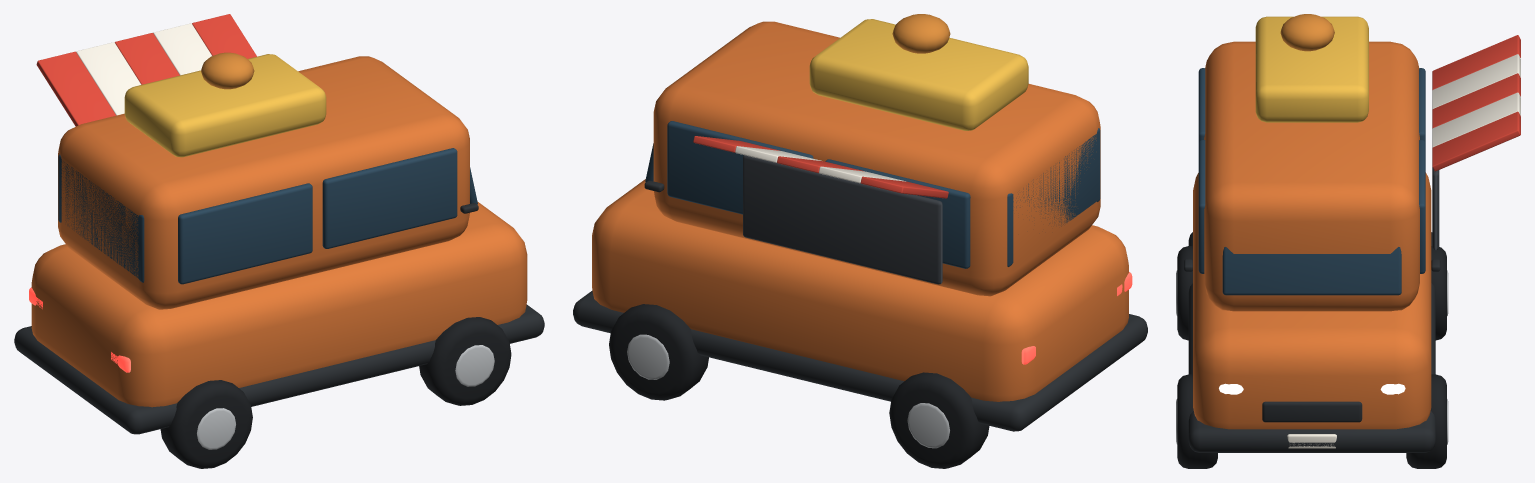
File: car_van.glb
3 views of the same model, side by side, from view 1: azimuth 30°, elevation 25°; view 2: azimuth 150°, elevation 25°; view 3: azimuth 270°, elevation 25° (orthographic). The views are drawn at different scales.
Visible parts, largest first — view 1: car_van; view 2: car_van; view 3: car_van.
Boxes of the visible parts, x1=… form: car_van: x1=14, y1=14, x2=544, y2=468; car_van: x1=573, y1=14, x2=1147, y2=468; car_van: x1=1176, y1=14, x2=1520, y2=468.
Size of the model in its own units: 2.16 by 1.73 by 1.52.
3 materials, 3 textured.
